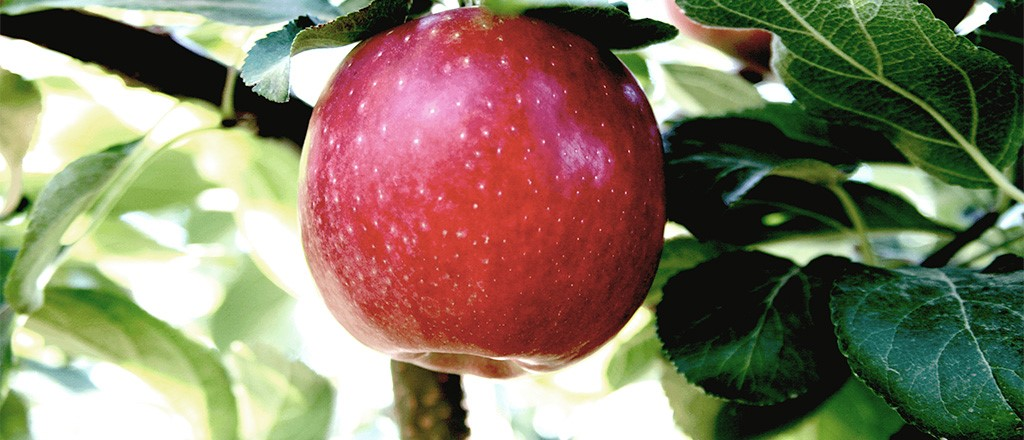apple: (303, 8, 663, 366)
